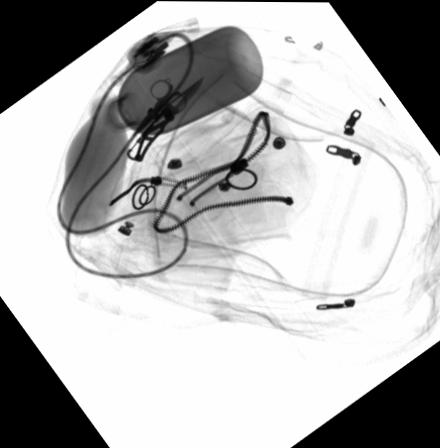Knife: (125, 73, 205, 159)
Scissors: (132, 75, 188, 134)
